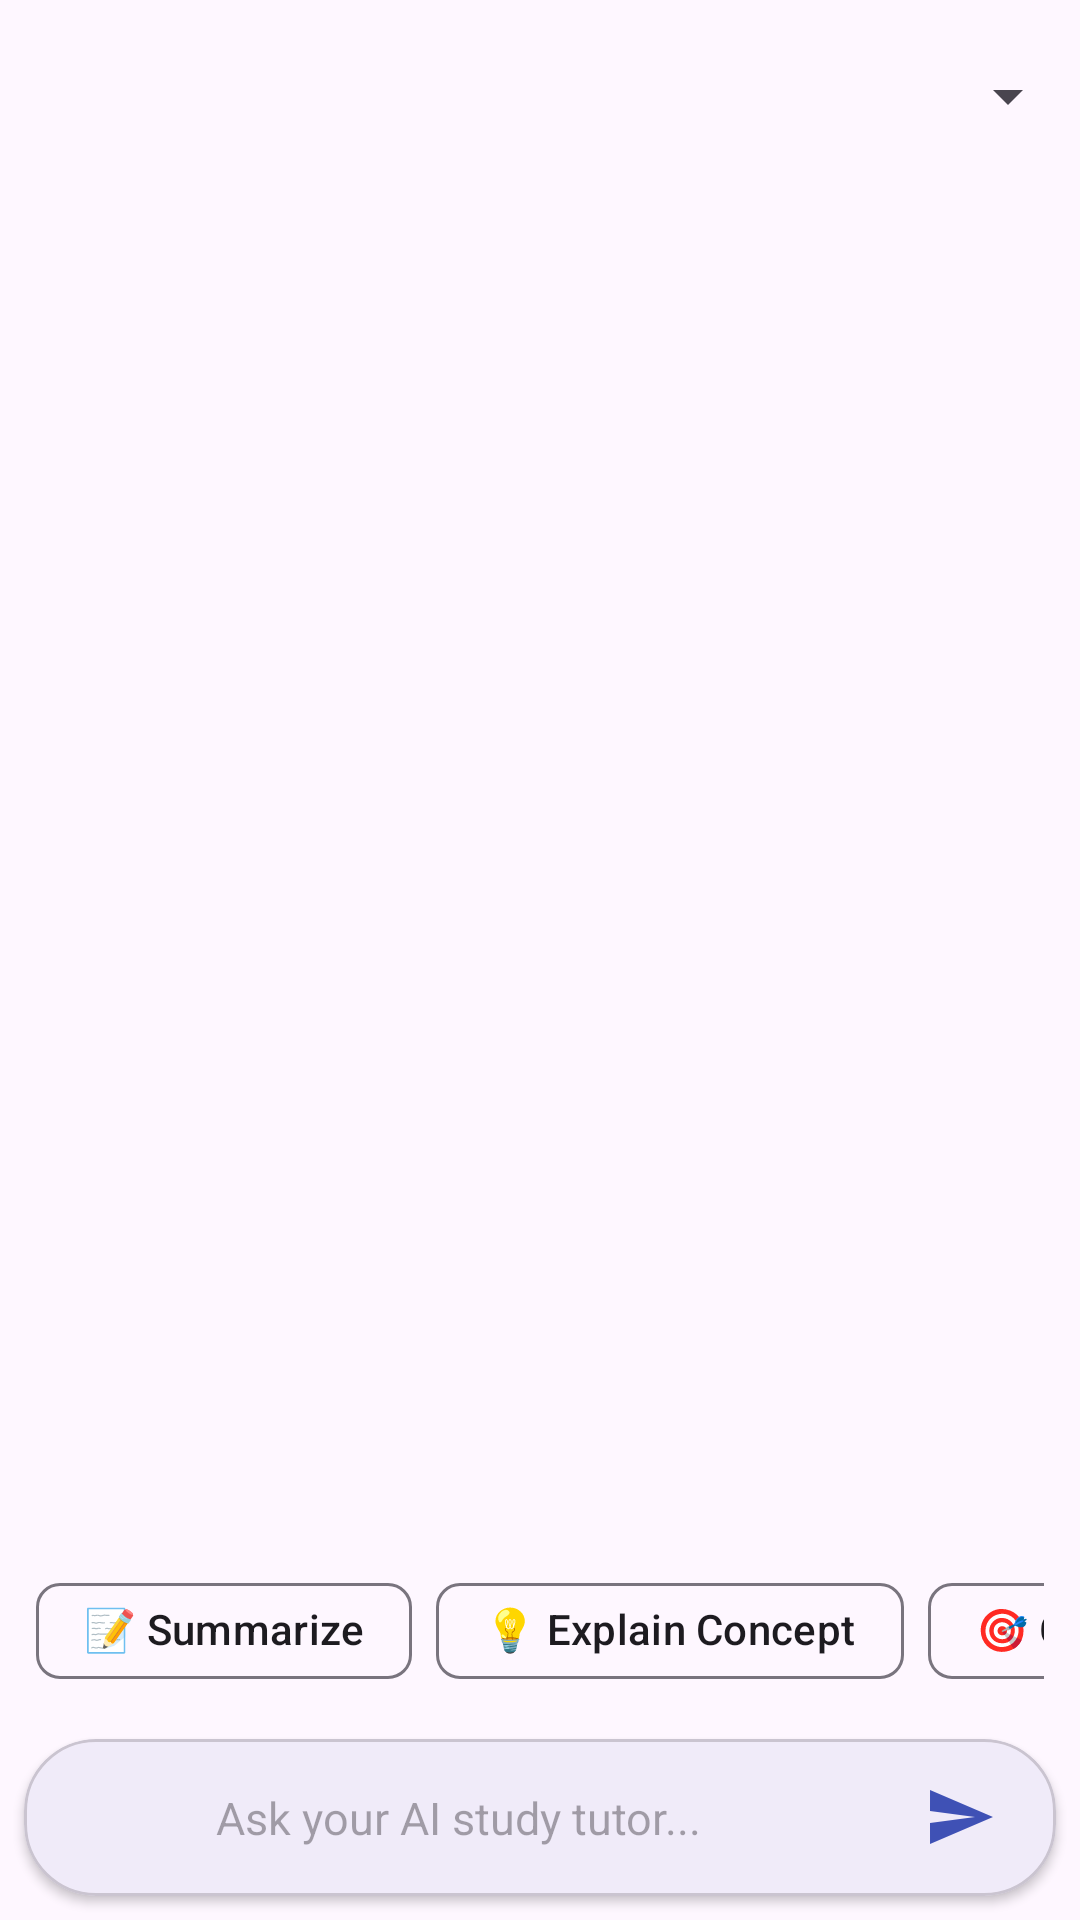

Named icons in this screenshot (1080*1920) and their centers, point (x, y):
Send: point (961, 1817)
